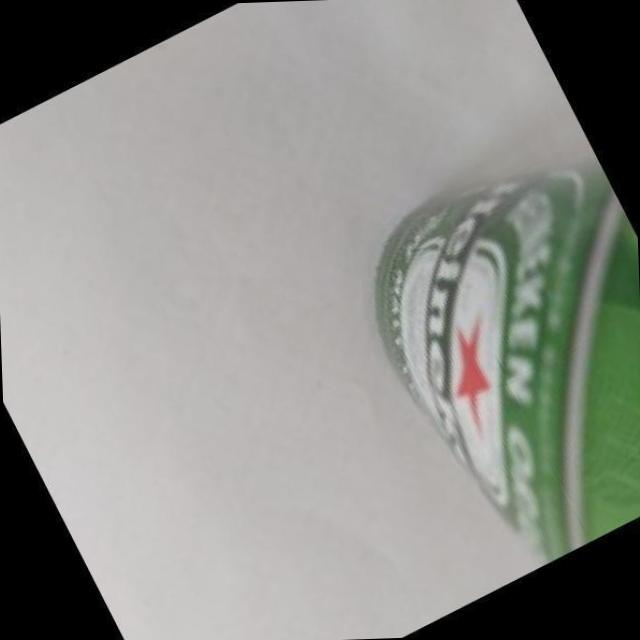BotolKaca: (369, 164, 640, 570)
